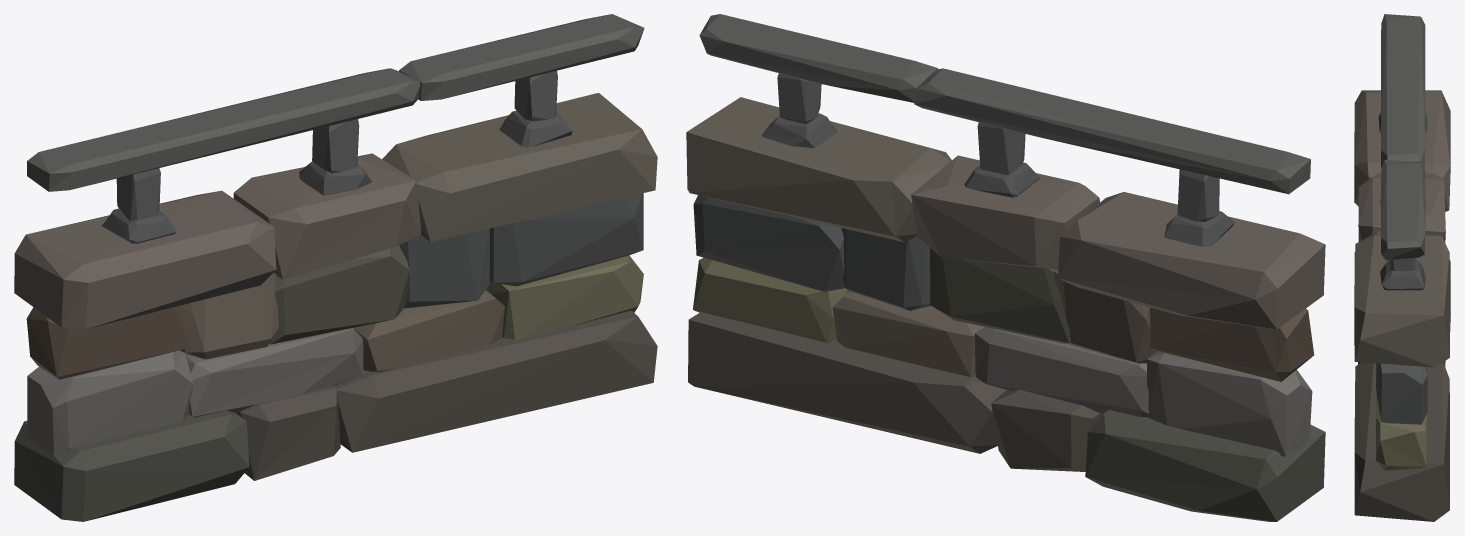
Rendered from um_wall005.FBX.
3 views of the same model, side by side, from view 1: azimuth 30°, elevation 25°; view 2: azimuth 150°, elevation 25°; view 3: azimuth 270°, elevation 25° (orthographic). The views are drawn at different scales.
Parts seen in each view (by area): view 1: um_wall005; view 2: um_wall005; view 3: um_wall005.
Boxes of the visible parts, box(x1,y1,x2,y2) form: um_wall005: box(14, 14, 657, 521); um_wall005: box(686, 14, 1325, 521); um_wall005: box(1354, 14, 1450, 521).
Size of the model in its own units: 4.06 by 2.26 by 0.7072.
